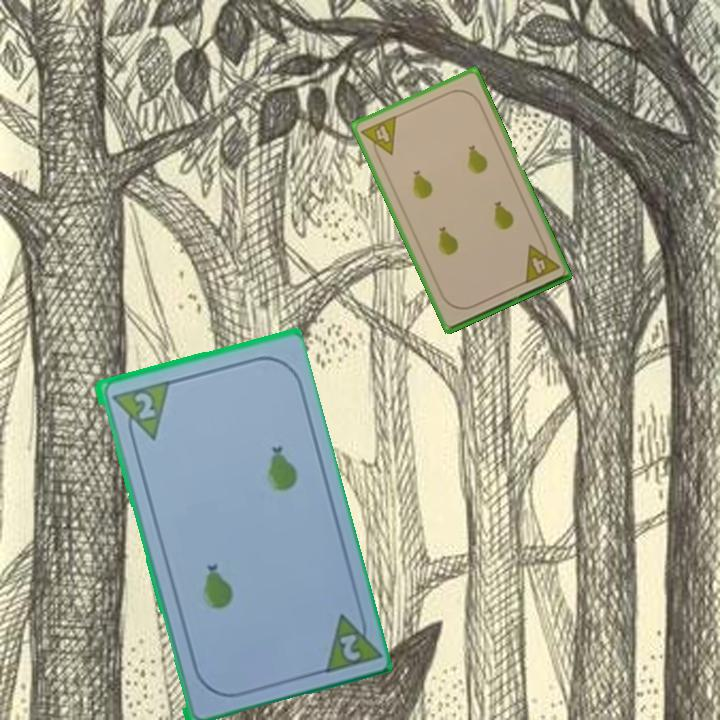2p: (317, 603, 381, 676), (130, 388, 158, 422)
4p: (357, 112, 400, 163), (520, 237, 562, 287)
